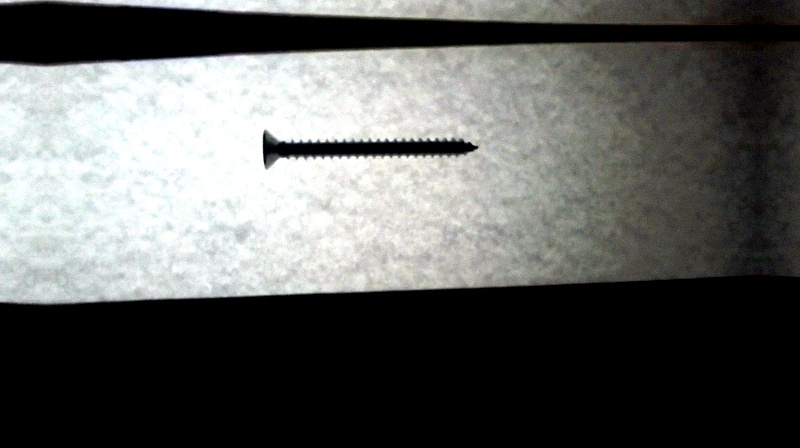S002: (259, 125, 481, 171)
